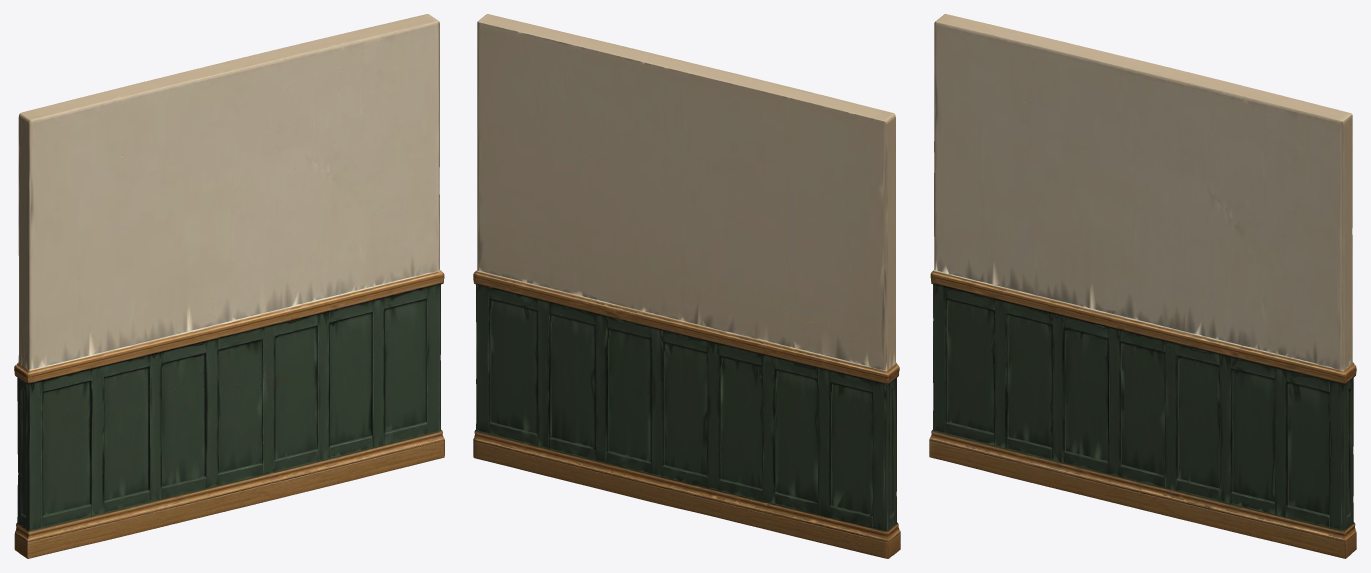
The model's file is cafe-wall.glb.
The picture shows the model from 3 angles, left to right: view 1: azimuth 30°, elevation 25°; view 2: azimuth 150°, elevation 25°; view 3: azimuth 330°, elevation 25°; orthographic projection.
Visible parts, largest first — view 1: tripo_node_ebd5af08-b28b-426c-ada9-652ebe477d45; view 2: tripo_node_ebd5af08-b28b-426c-ada9-652ebe477d45; view 3: tripo_node_ebd5af08-b28b-426c-ada9-652ebe477d45.
Boxes of the visible parts, <box> form: tripo_node_ebd5af08-b28b-426c-ada9-652ebe477d45: <box>14,14,444,558</box>; tripo_node_ebd5af08-b28b-426c-ada9-652ebe477d45: <box>473,14,900,558</box>; tripo_node_ebd5af08-b28b-426c-ada9-652ebe477d45: <box>929,14,1356,558</box>.
Size of the model in its own units: 3 by 3 by 0.18.
1 material, 1 textured.
